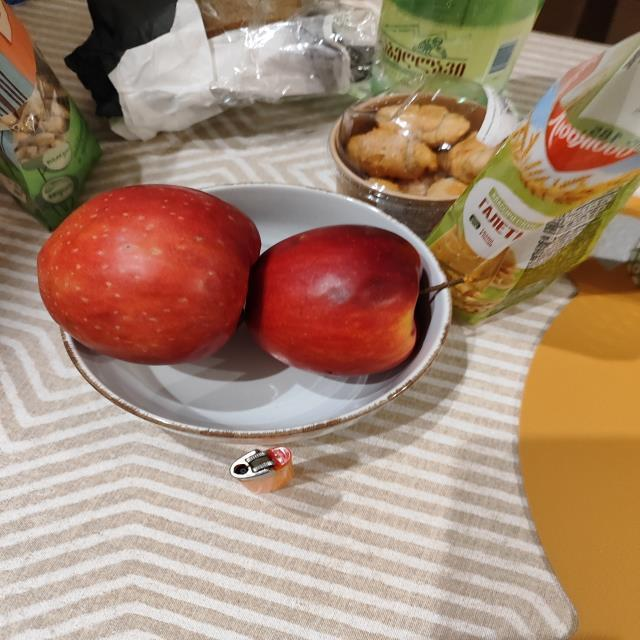lighter: (228, 446, 293, 493)
